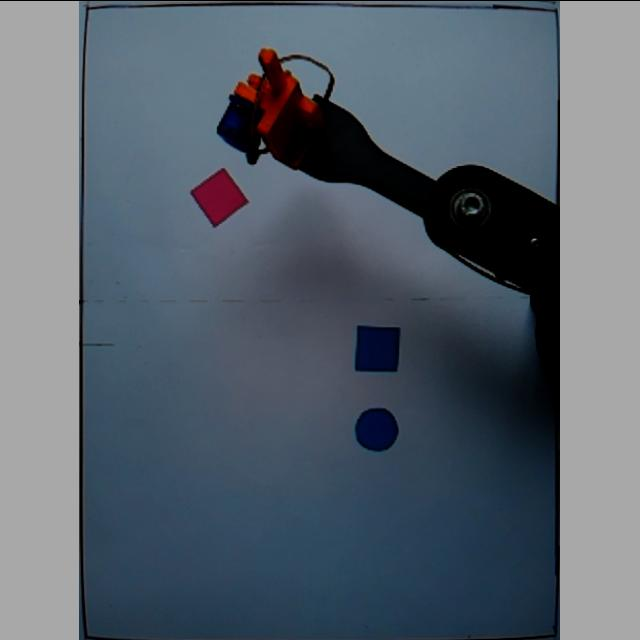blueCircle: (353, 405, 403, 451)
blueSquare: (356, 321, 402, 373)
pinkSquare: (188, 166, 250, 226)
